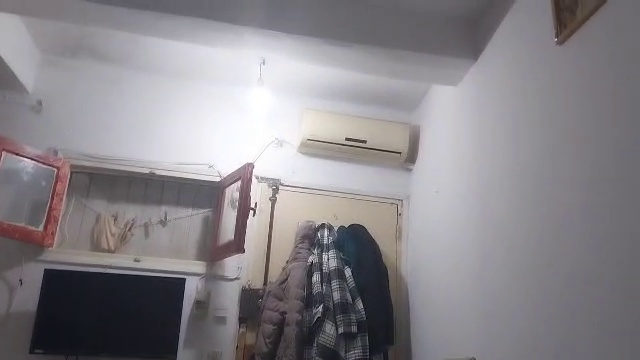air_conditioner: (296, 98, 421, 167)
